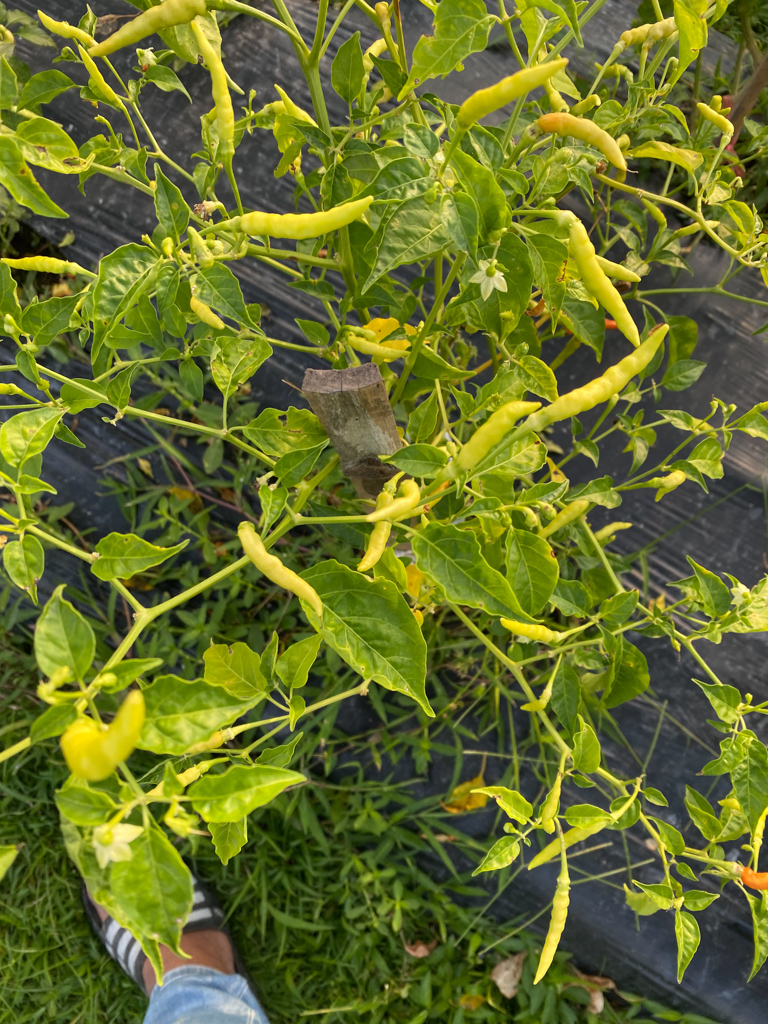frog-eye leafspot: (31, 142, 49, 156), (544, 545, 557, 564), (14, 164, 29, 178), (473, 598, 488, 610), (100, 315, 110, 329)
